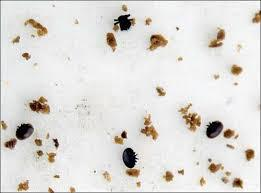Varroa: (14, 117, 33, 137), (204, 117, 223, 137), (123, 153, 136, 164)
